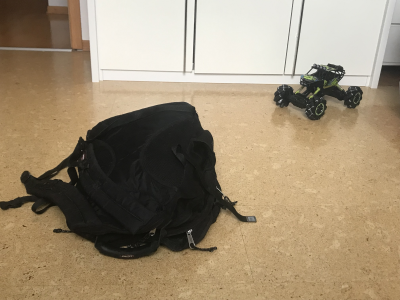remote control car: (273, 62, 364, 121)
